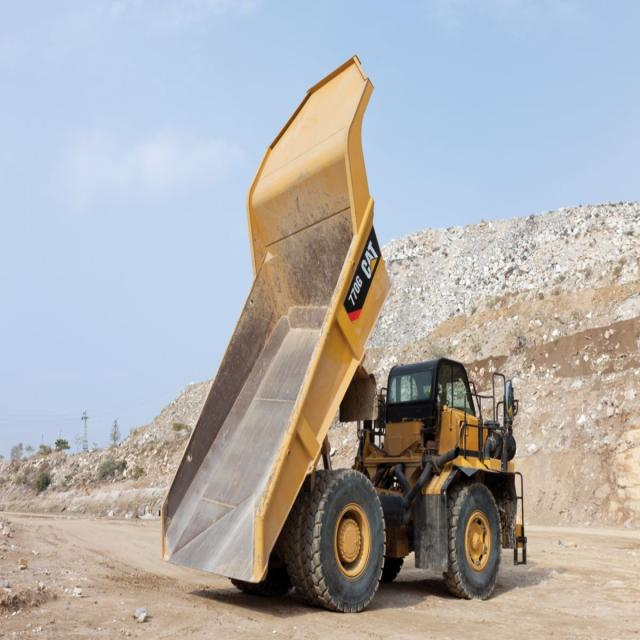dump_truck: (145, 40, 543, 615)
